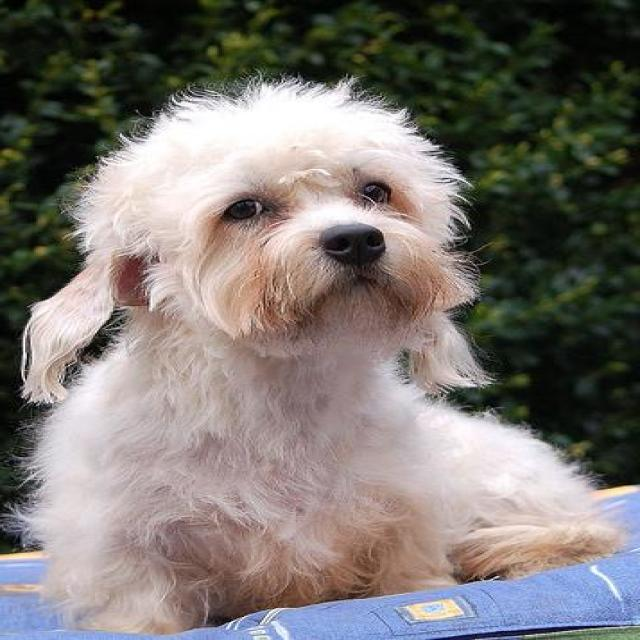dandie_dinmont: (20, 84, 628, 630)
